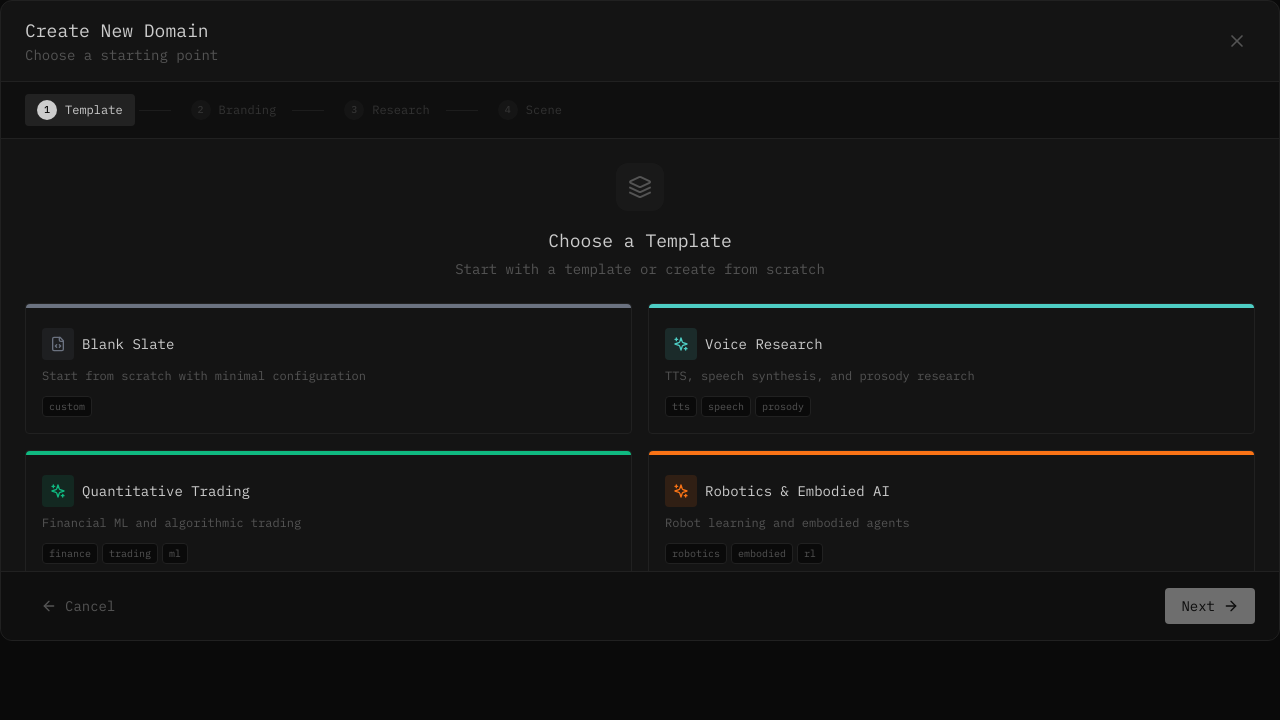
Test case: DomainWizard › template selection › pre-fills branding from template
# Select Voice Research template
What coordinates should you click on to do the following:
click the heading "Voice Research"
I would click on:
 (764, 344)
Its box is [705,334,823,354].
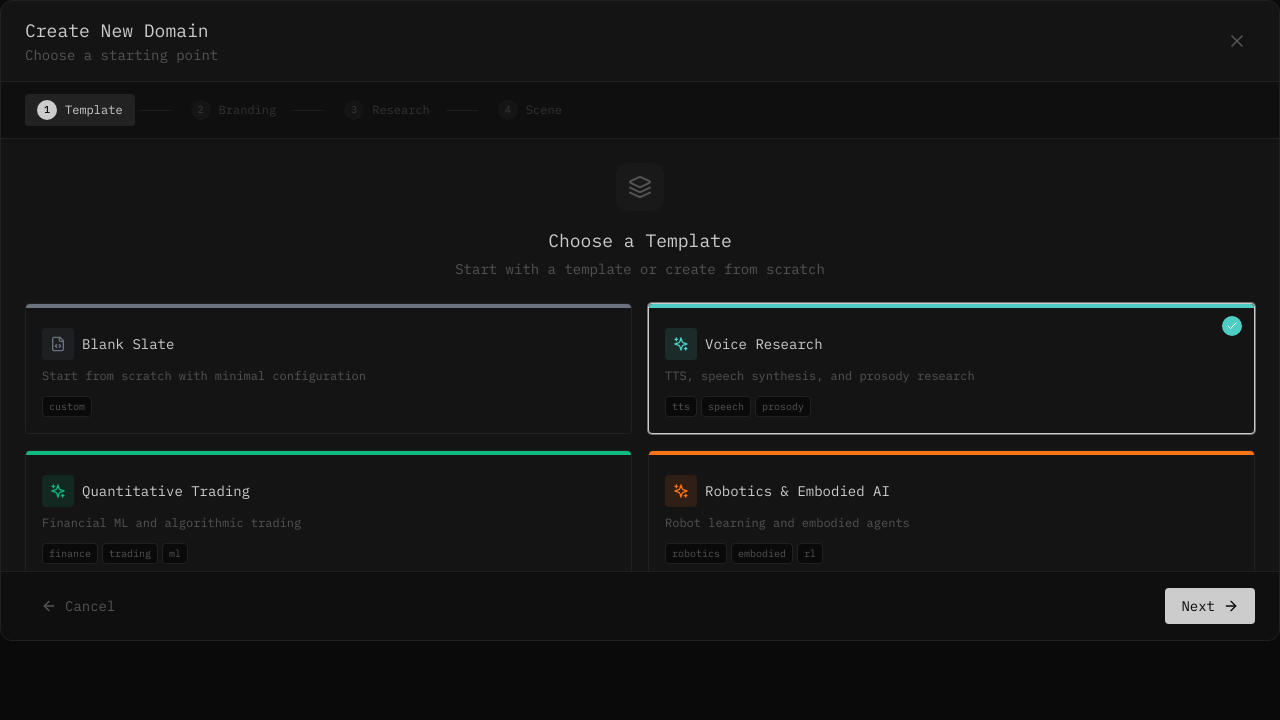
What coordinates should you click on to do the following:
click the button "Next"
I would click on:
 (1210, 606)
Its box is [1165,588,1255,624].
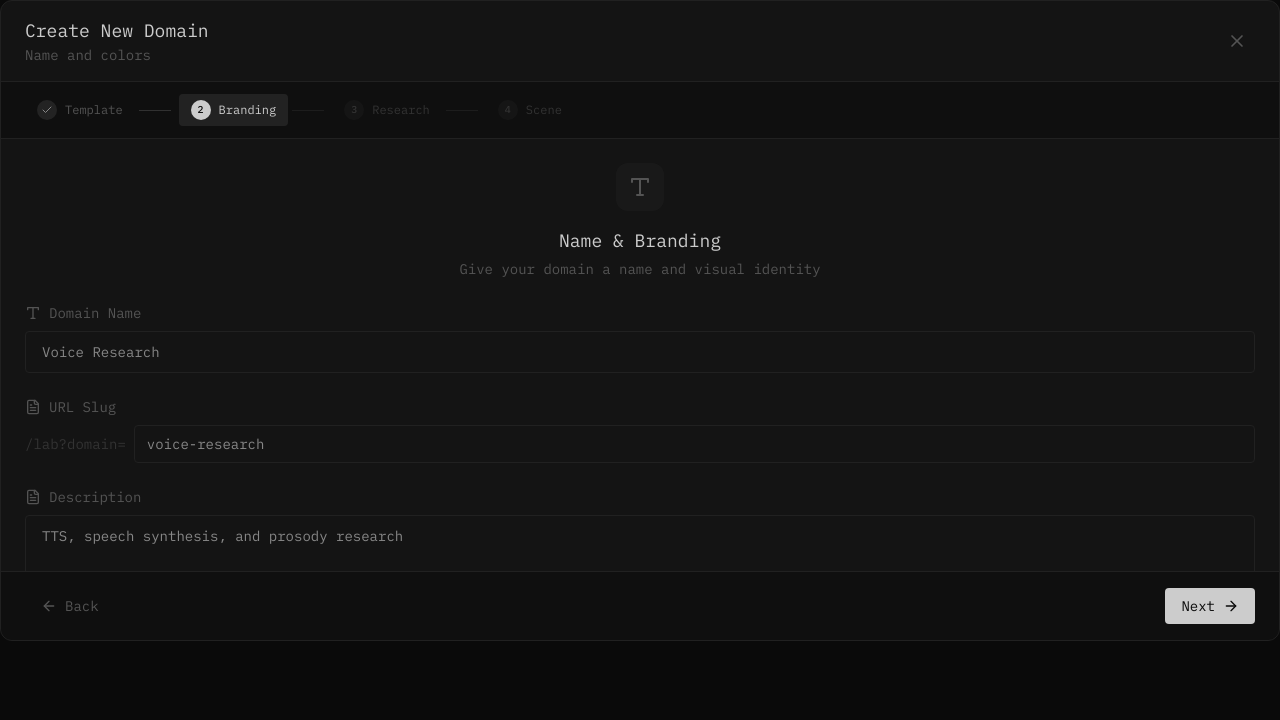
Now the 1st field with placeholder "My Research Lab" holds "Voice Research", box [25,331,1255,373]
